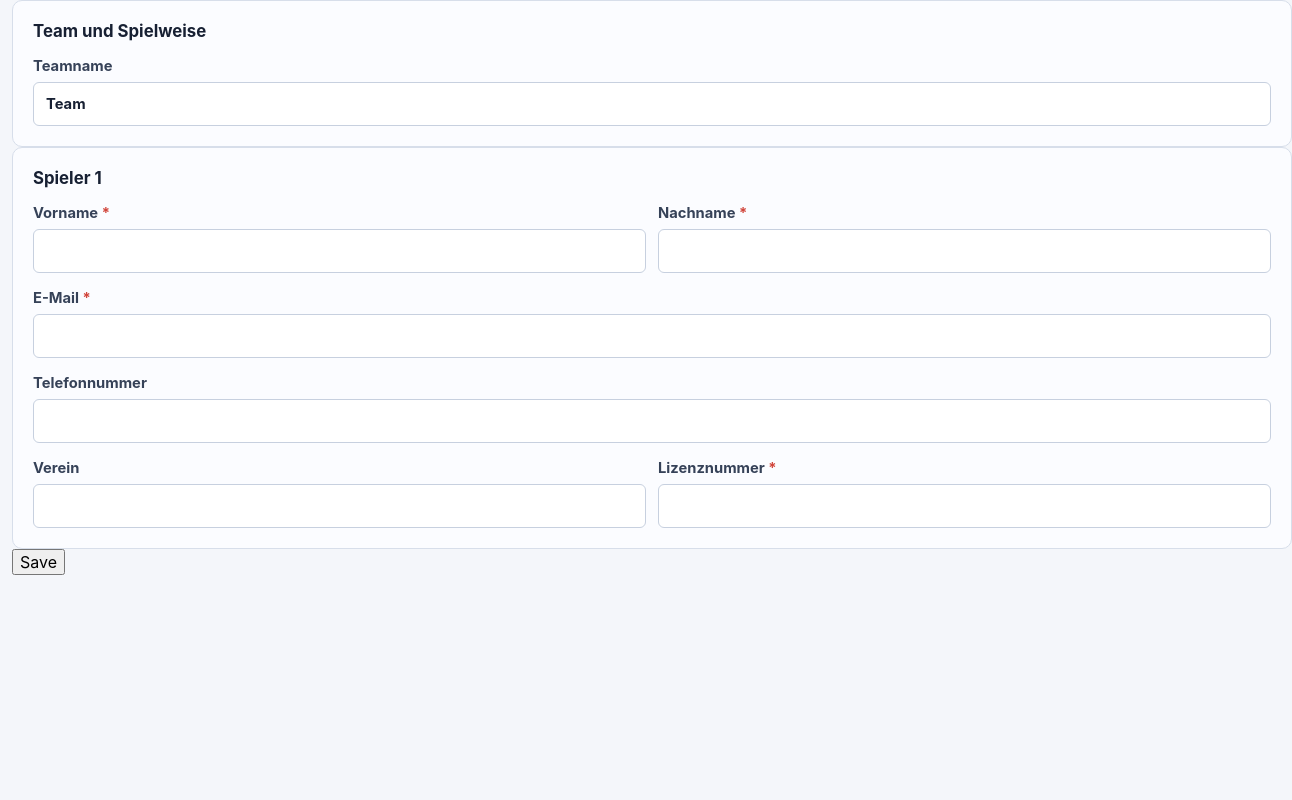
Registration player selection › filters the shared postbox directory locally and challenges only the detail request
Type "Anna" into the dropdown labelled "Vorname *". click: (340, 251)
box: top-left (33, 229), bottom-right (646, 273)
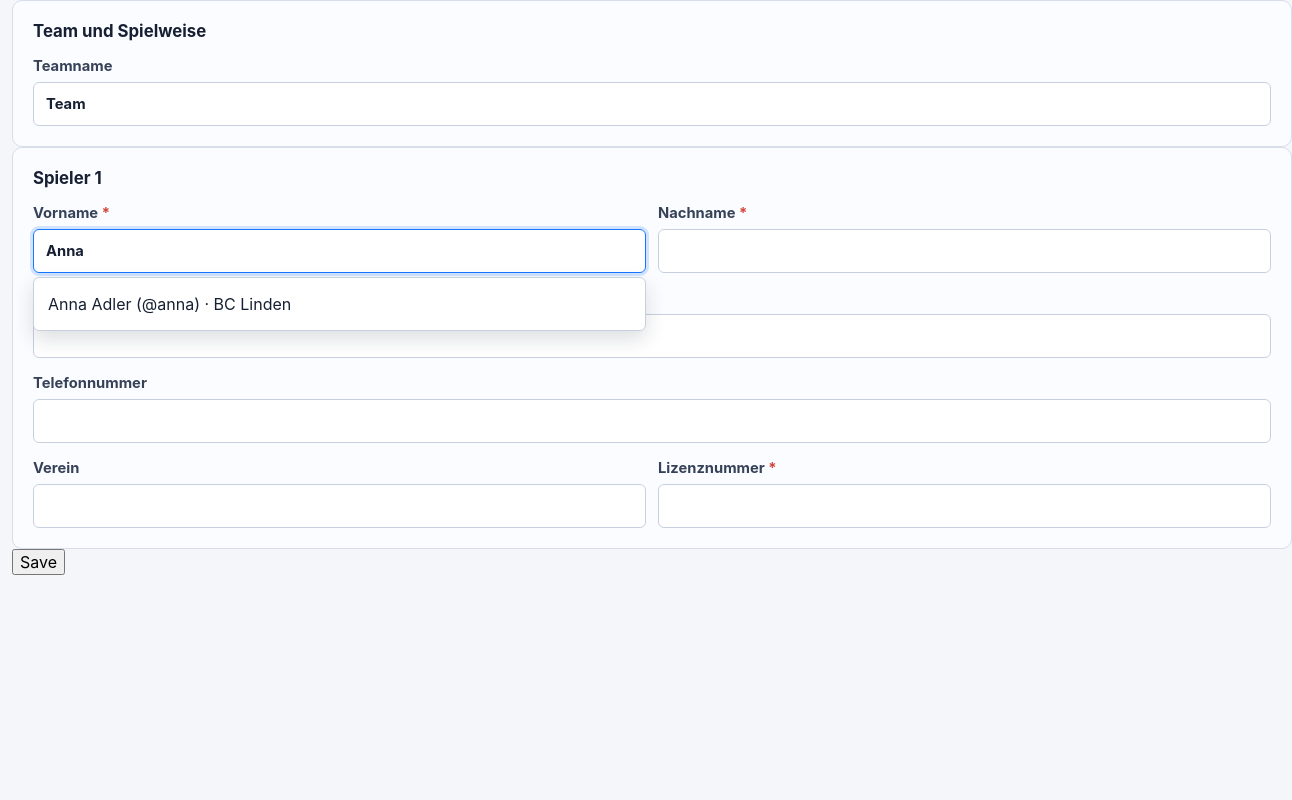
Expected: the option "Anna Adler (@anna) · BC Linden" is shown, top-left (38, 282), bottom-right (641, 326)
Type "Ad" into the dropdown labelled "Nachname *". click: (964, 251)
box: top-left (658, 229), bottom-right (1271, 273)
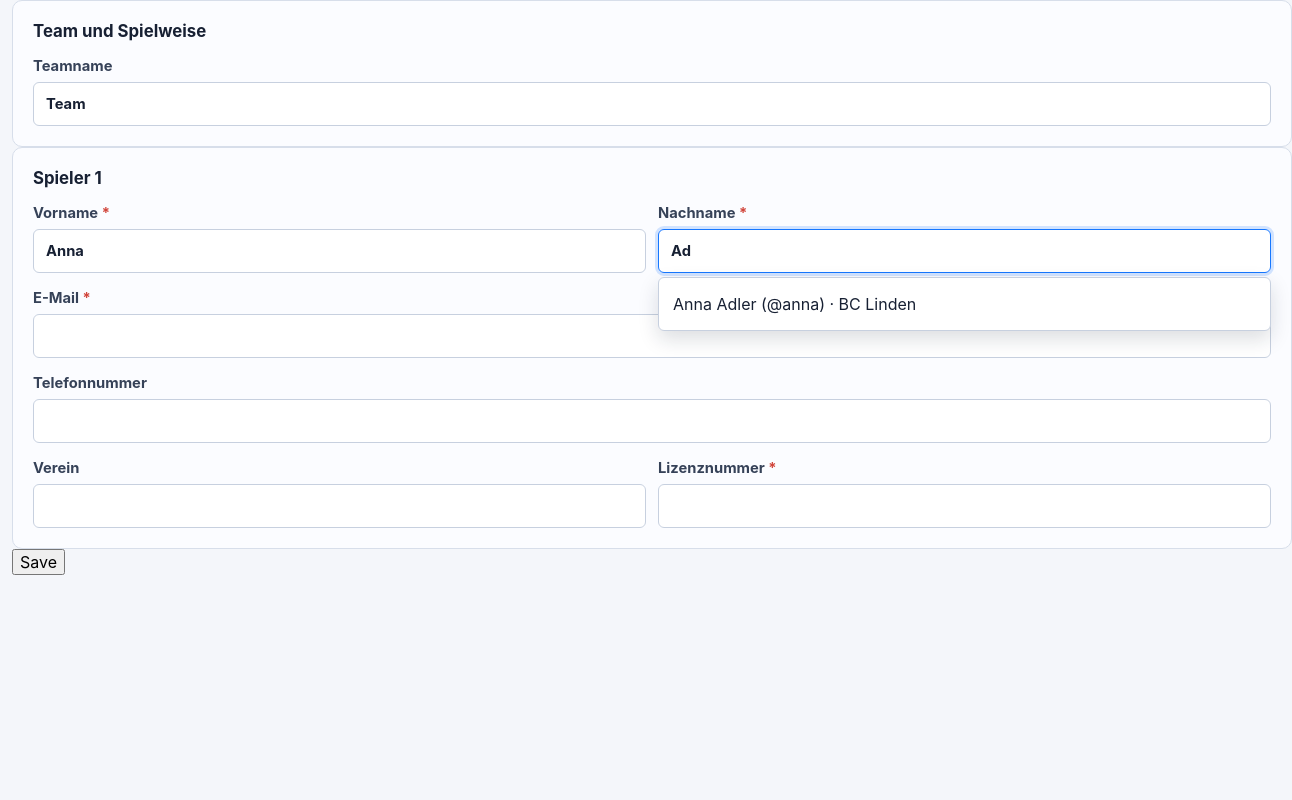
Expected: the field labelled "E-Mail *" is empty, top-left (33, 314), bottom-right (1271, 358)
Expected: the option "Anna Adler (@anna) · BC Linden" is shown
Click the option "Anna Adler (@anna) · BC Linden". click: (692, 304)
box: top-left (663, 282), bottom-right (1266, 326)
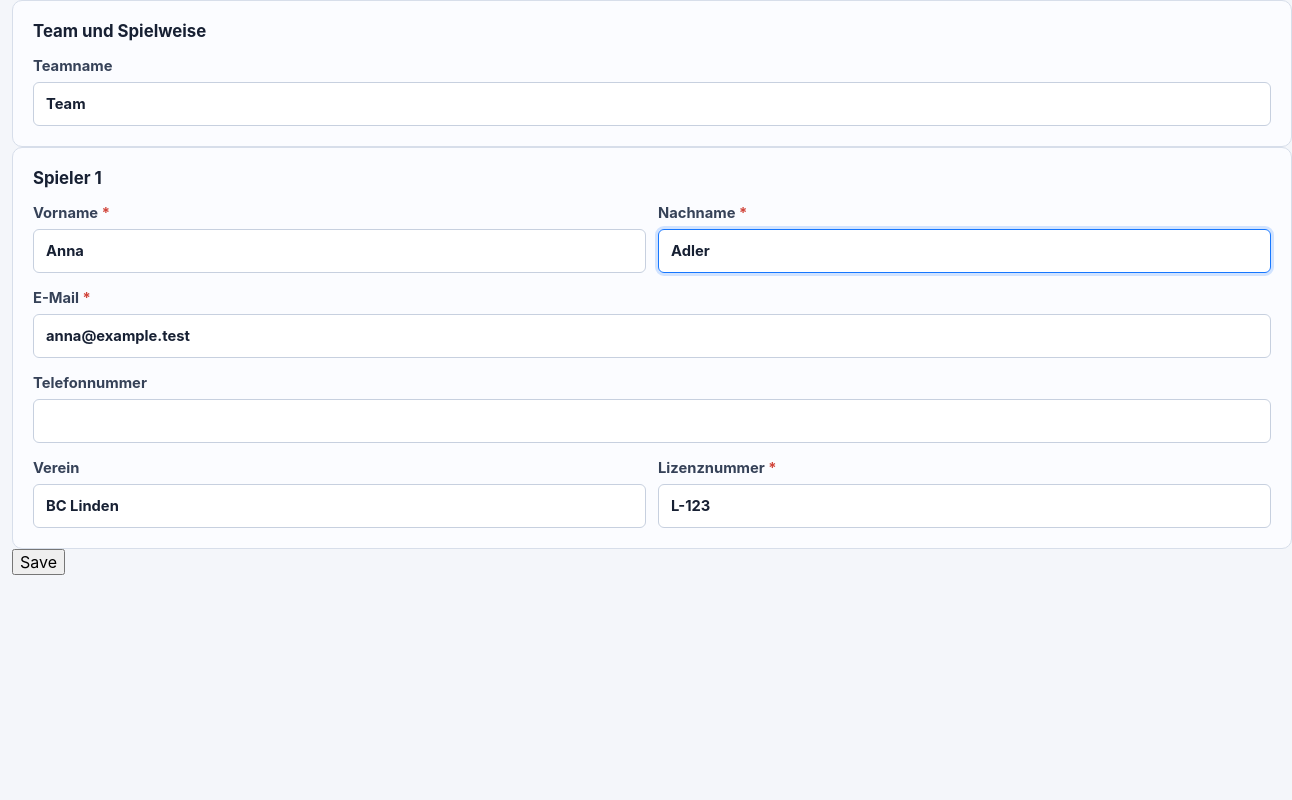
Expected: the dropdown labelled "Nachname *" holds "Adler", top-left (658, 229), bottom-right (1271, 273)
Expected: the field labelled "E-Mail *" holds "anna@example.test", top-left (33, 314), bottom-right (1271, 358)
Expected: the field labelled "Lizenznummer *" holds "L-123", top-left (658, 484), bottom-right (1271, 528)
